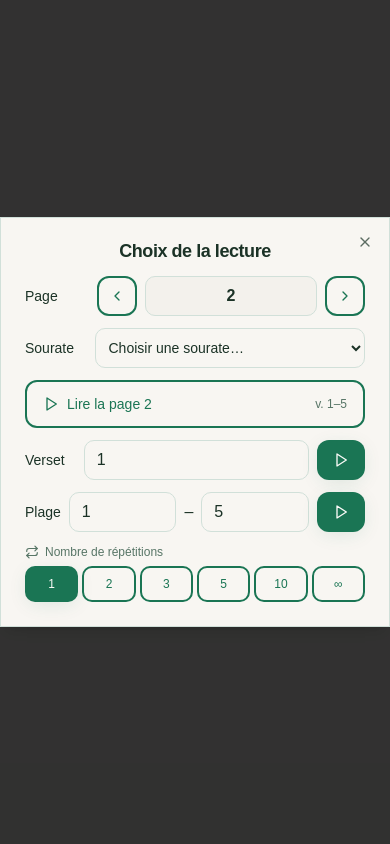
Reading menu page stepper › moves to the next page with the left arrow and to the previous page with the right arrow
Click the button named "Page suivante": [117, 296] box [97, 276, 137, 316]
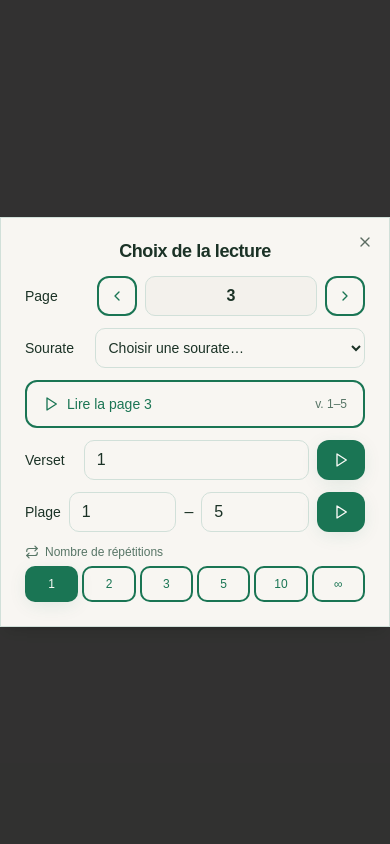
Expected: the message named "Numéro de page" reads "3", [226, 287, 235, 304]
Click the button named "Page précédente": [345, 296] box [325, 276, 365, 316]
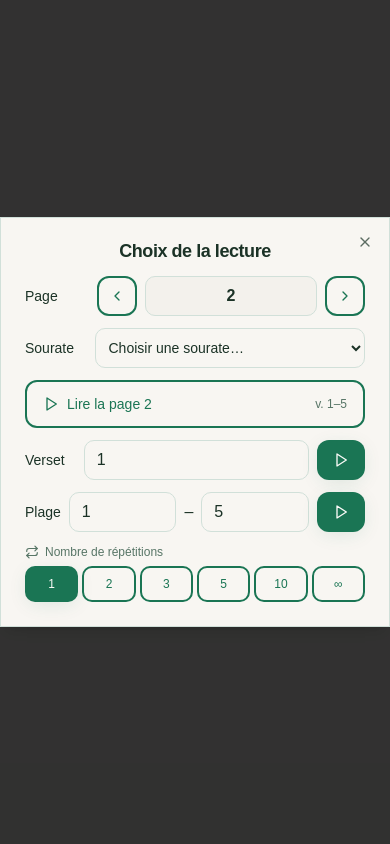
Expected: the message named "Numéro de page" reads "2", [226, 287, 235, 304]
